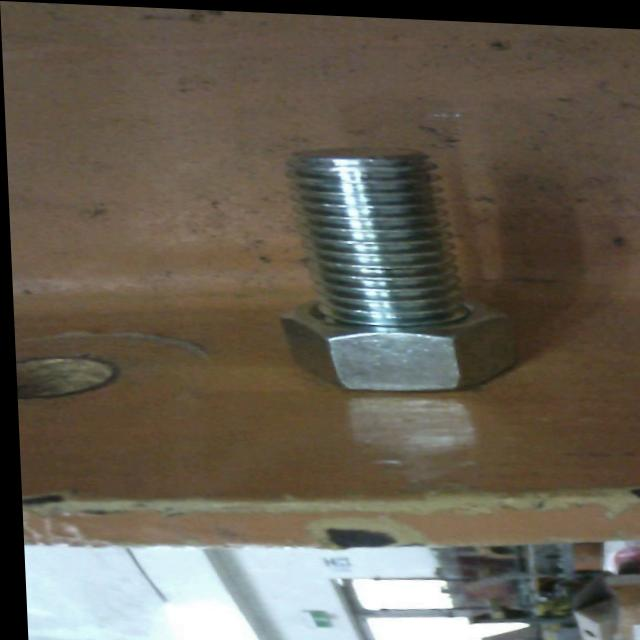Missing bolt: (13, 352, 121, 408)
Regular bolt: (270, 134, 520, 396)
